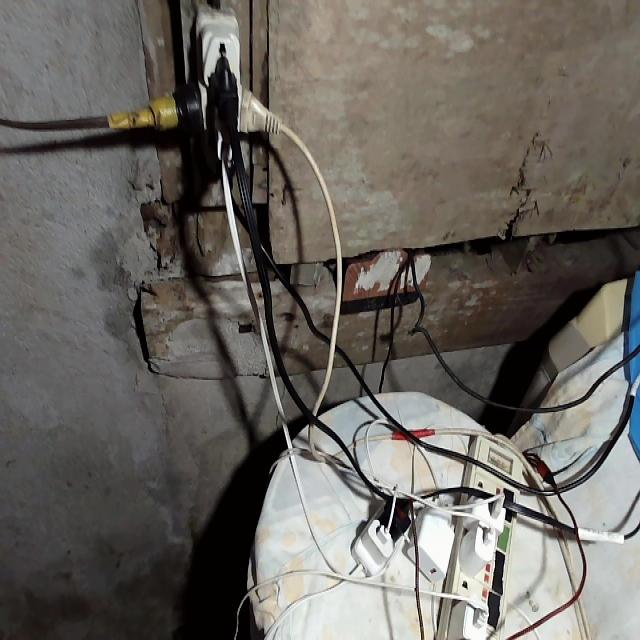-: (163, 13, 278, 162)
